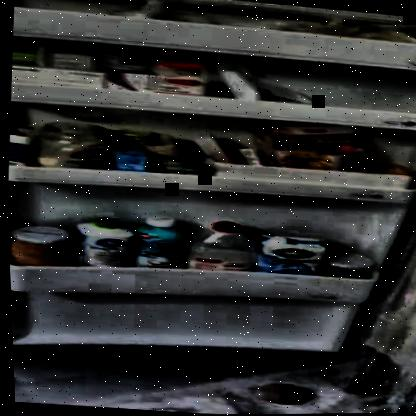heavy_cream: (108, 144, 150, 170)
milk: (74, 216, 133, 267), (257, 233, 321, 275)
